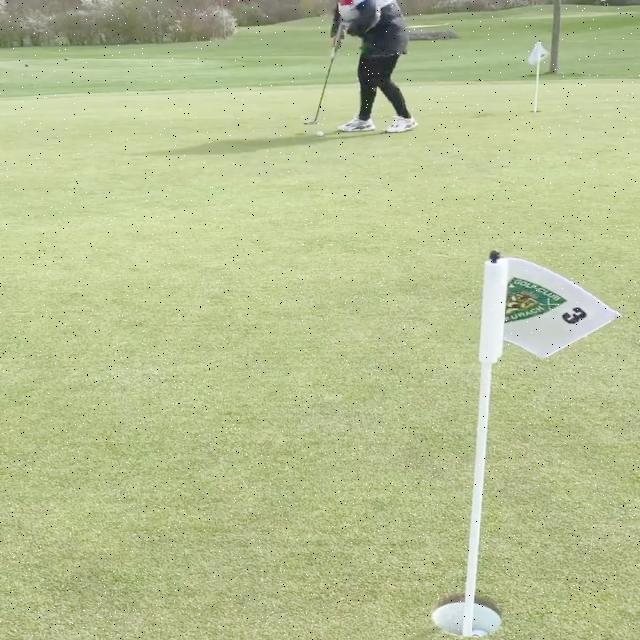golf ball: (472, 630, 488, 636), (316, 131, 324, 136)
golf club-handle: (303, 46, 339, 125)
golf club-head: (303, 120, 318, 125)
